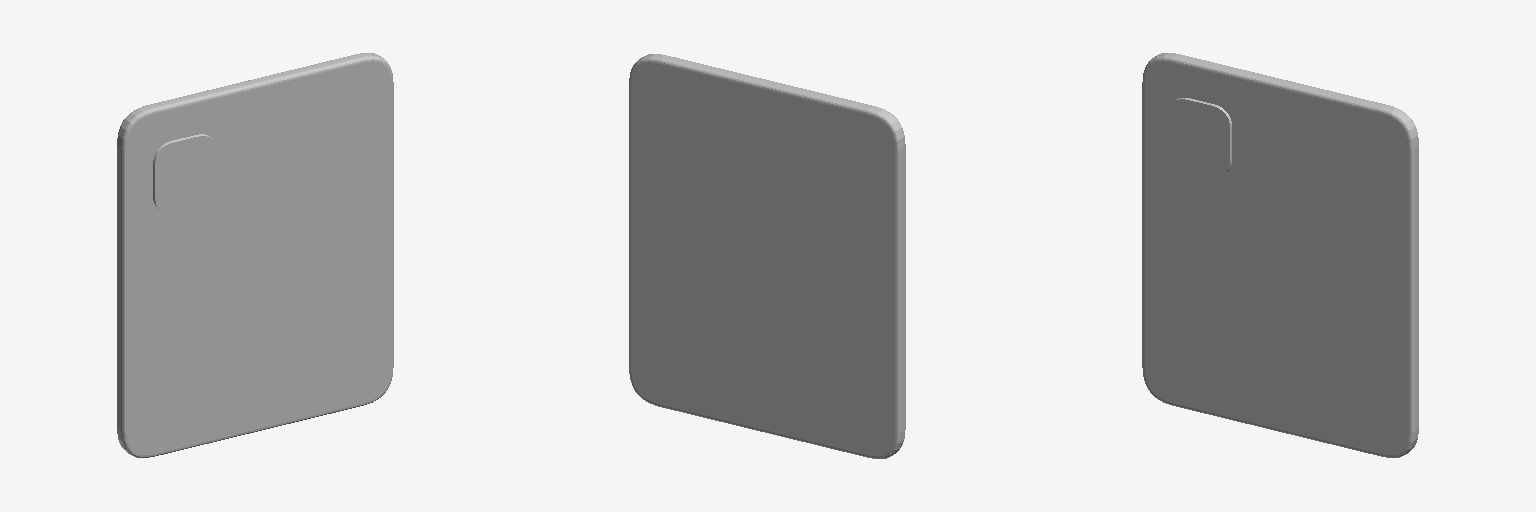
File: ipad.obj
3 renders of one model, left to right at view 1: azimuth 30°, elevation 25°; view 2: azimuth 150°, elevation 25°; view 3: azimuth 330°, elevation 25°, orthographic.
Parts seen in each view (by area): view 1: tablet, Box006; view 2: tablet; view 3: tablet, Box006.
Part boxes in pixels (x1,y1,x2,y2): tablet: (117, 53, 393, 457); Box006: (153, 134, 215, 211); tablet: (629, 54, 905, 458); tablet: (1142, 53, 1418, 457); Box006: (1170, 98, 1231, 174).
Bounding box in the file's own units: 76.67 × 93.97 × 4.6.